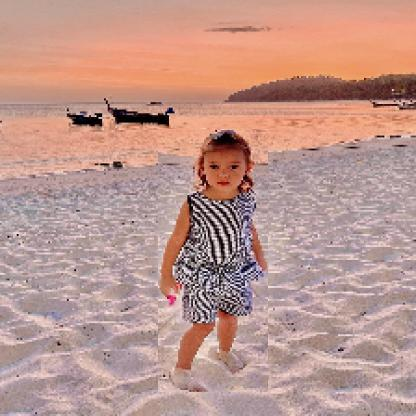child: (159, 130, 270, 394)
